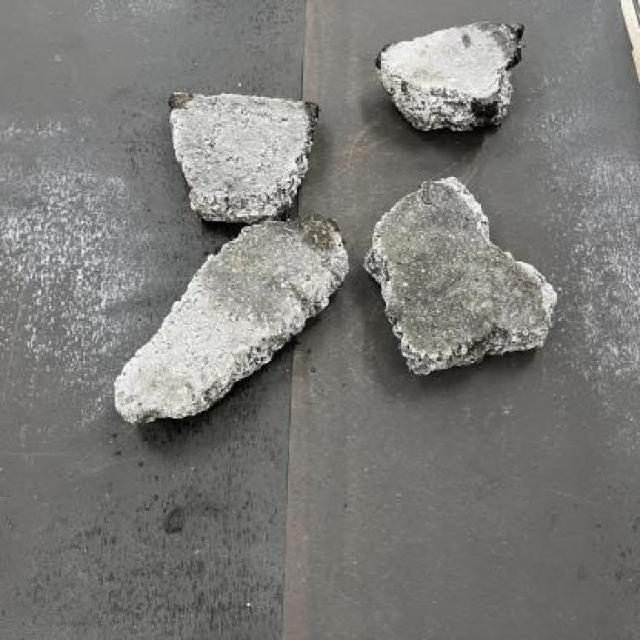Road Debris: (368, 174, 550, 356), (198, 214, 346, 343), (170, 91, 308, 211), (442, 19, 524, 107)
